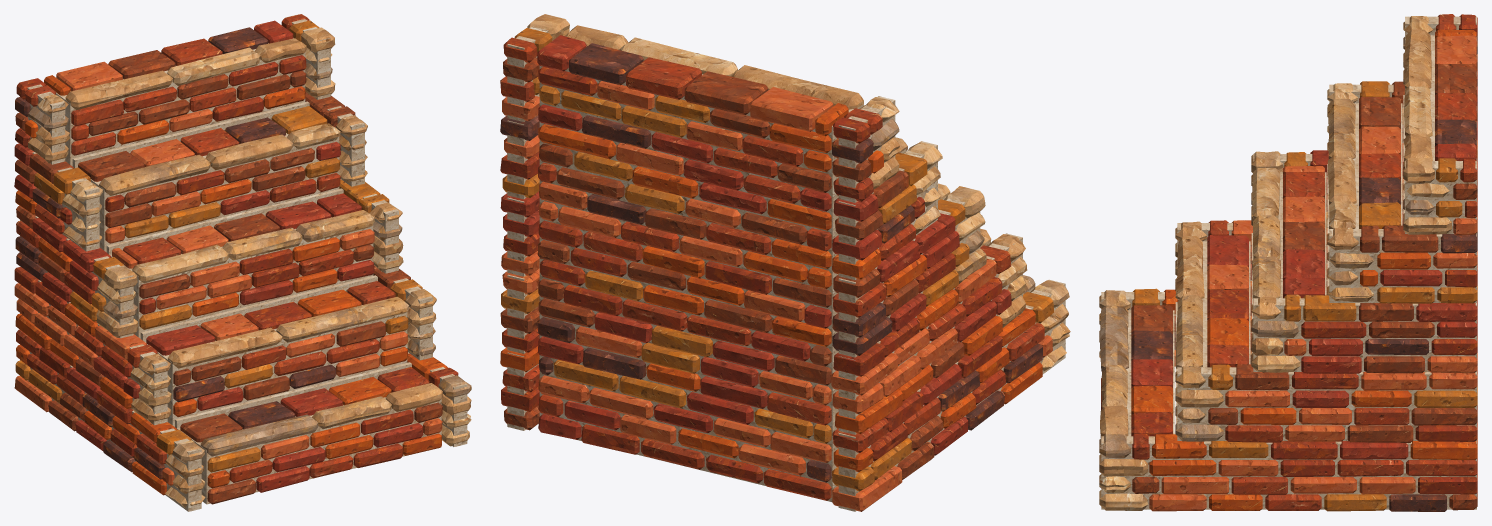
The model's file is stairs__clay_brick.glb.
3 renders of one model, left to right at view 1: azimuth 30°, elevation 25°; view 2: azimuth 150°, elevation 25°; view 3: azimuth 270°, elevation 25°, orthographic. The views are drawn at different scales.
Parts seen in each view (by area): view 1: model; view 2: model; view 3: model.
Boxes of the visible parts, bbox=[...] form: model: bbox=[14, 14, 471, 511]; model: bbox=[500, 14, 1070, 511]; model: bbox=[1099, 14, 1477, 511].
Size of the model in its own units: 1.97 by 1.99 by 1.98.
13 materials, 13 textured.
